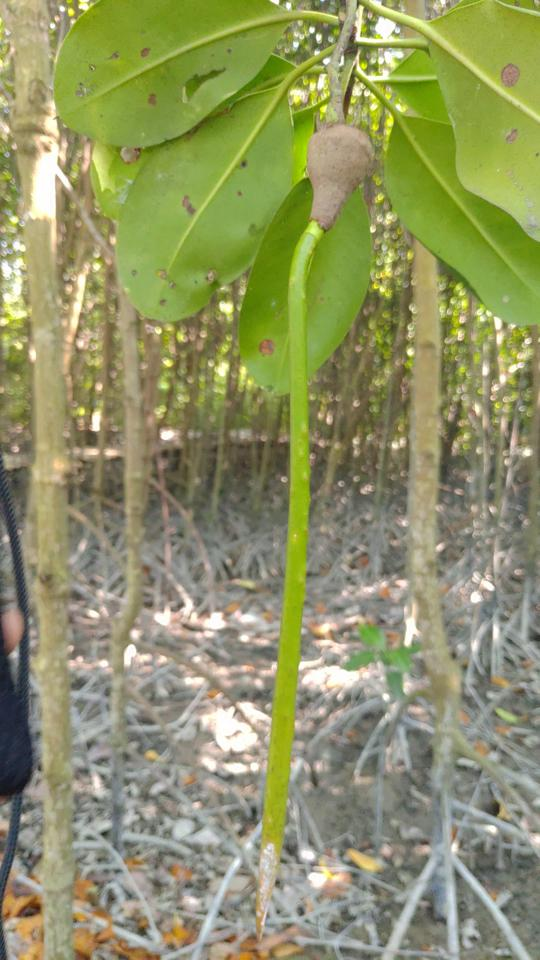setengah matang: (239, 111, 382, 951)
